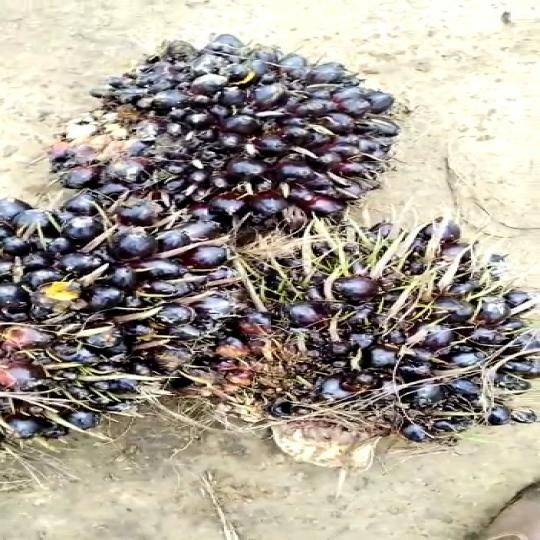mentah: (41, 28, 436, 241), (217, 210, 540, 454), (0, 184, 267, 464)
